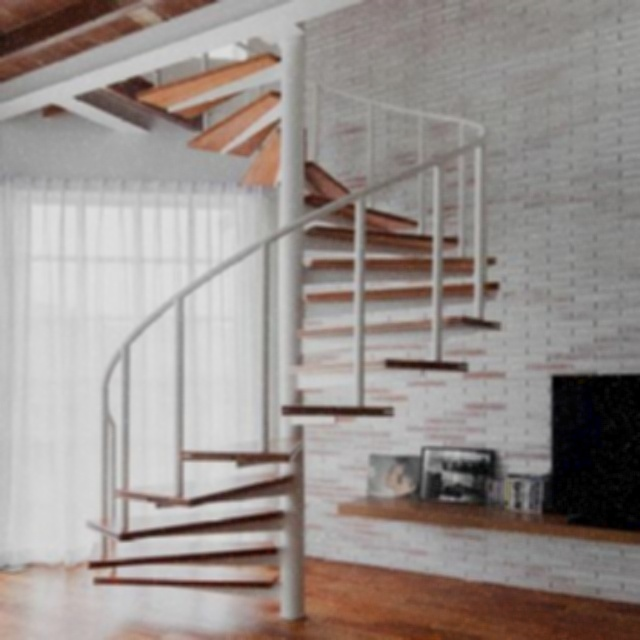stair: (2, 23, 518, 623)
